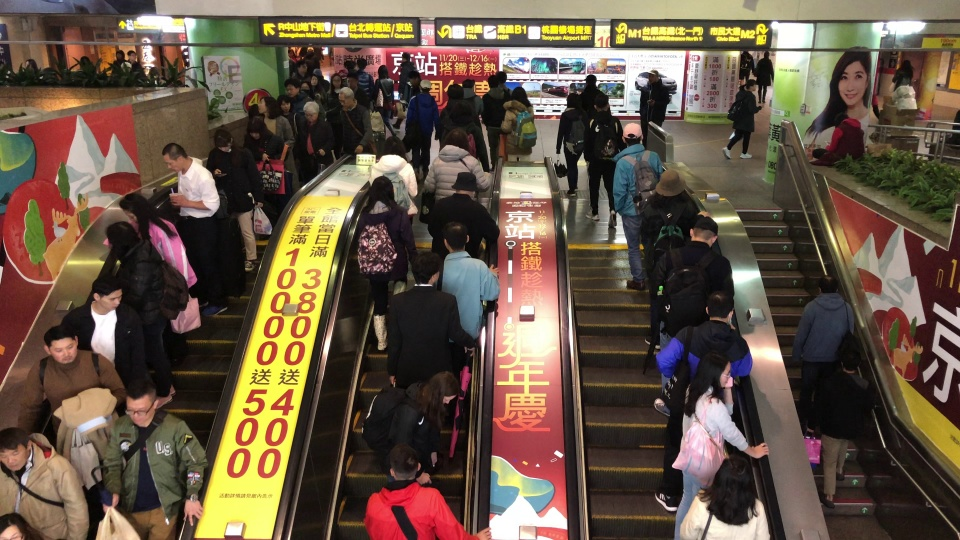person_head: (705, 456, 757, 511), (418, 371, 460, 413), (383, 442, 420, 483), (40, 325, 78, 364), (0, 427, 31, 471), (124, 380, 153, 427), (90, 274, 121, 317), (703, 293, 735, 325), (412, 250, 440, 286), (105, 223, 137, 252), (442, 221, 469, 255), (703, 356, 731, 388), (365, 176, 393, 207), (690, 215, 718, 246), (657, 168, 685, 198), (438, 128, 469, 155), (118, 194, 144, 223), (0, 514, 28, 540), (162, 143, 186, 173), (453, 171, 479, 198), (621, 122, 644, 146), (839, 350, 861, 375), (381, 137, 404, 159), (257, 96, 280, 117), (300, 100, 319, 123), (214, 131, 234, 152), (817, 275, 839, 294), (337, 87, 355, 109), (446, 83, 464, 103), (274, 93, 291, 112), (511, 85, 527, 105), (832, 112, 851, 128), (283, 79, 300, 96), (592, 96, 610, 112), (563, 93, 580, 109), (461, 78, 476, 96), (484, 74, 500, 89), (418, 79, 432, 94), (375, 65, 388, 80), (647, 69, 660, 84), (496, 69, 508, 84), (22, 59, 38, 70), (330, 74, 342, 88), (583, 75, 597, 87), (742, 79, 756, 91), (79, 55, 91, 67), (148, 65, 159, 78), (356, 58, 367, 70), (346, 74, 356, 87), (899, 59, 911, 69), (114, 50, 125, 60), (121, 63, 132, 72), (128, 50, 136, 62), (401, 53, 410, 63), (306, 46, 314, 54), (763, 51, 770, 59), (742, 48, 749, 54)
person_vbox: (654, 293, 754, 512), (94, 222, 196, 407), (670, 357, 772, 539), (103, 374, 211, 540), (652, 215, 736, 416), (637, 169, 713, 345), (357, 443, 492, 540), (387, 250, 475, 387), (15, 321, 126, 429), (363, 371, 467, 484), (806, 350, 877, 513), (352, 176, 418, 350), (790, 274, 861, 427), (0, 424, 89, 540), (604, 121, 663, 290), (117, 195, 188, 329), (430, 220, 502, 340), (682, 457, 774, 540), (427, 170, 498, 275), (207, 130, 260, 269), (369, 137, 417, 281), (582, 95, 629, 230), (422, 128, 493, 212), (63, 276, 122, 368), (159, 142, 221, 218), (435, 83, 486, 169), (402, 79, 440, 179), (257, 95, 295, 194), (323, 87, 373, 159), (808, 109, 868, 169), (722, 79, 766, 159), (556, 93, 586, 197), (500, 84, 537, 162), (635, 67, 671, 146), (481, 75, 507, 170), (298, 100, 329, 174), (373, 65, 398, 136), (577, 75, 612, 120), (396, 52, 421, 107), (274, 94, 298, 146), (459, 77, 484, 126), (754, 50, 775, 104), (282, 80, 312, 115), (889, 57, 916, 92), (354, 57, 375, 100), (325, 73, 345, 113), (737, 46, 755, 88), (495, 69, 512, 100), (302, 46, 322, 71), (345, 74, 360, 106), (22, 59, 43, 79), (127, 49, 141, 77), (111, 50, 125, 75), (76, 55, 94, 73), (147, 65, 163, 85), (119, 63, 132, 80)
